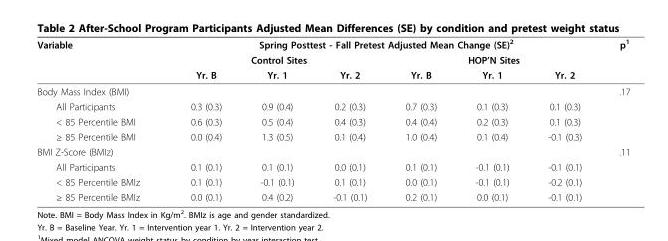table: (36, 37, 629, 202)
table column: (36, 37, 164, 202), (164, 37, 240, 202), (312, 37, 385, 202), (240, 37, 312, 202), (455, 37, 527, 202), (527, 37, 599, 202), (385, 37, 455, 202), (599, 37, 629, 202)
table column header: (36, 37, 629, 82)
table row: (36, 66, 629, 82), (36, 82, 629, 98), (36, 143, 629, 159), (36, 51, 629, 66), (36, 98, 629, 113), (36, 113, 629, 128), (36, 128, 629, 143), (36, 159, 629, 174), (36, 174, 629, 189), (36, 37, 629, 51), (36, 189, 629, 202)
table spanning cell: (164, 37, 599, 51), (36, 37, 164, 82), (164, 51, 385, 66), (385, 51, 599, 66), (599, 37, 629, 82)
